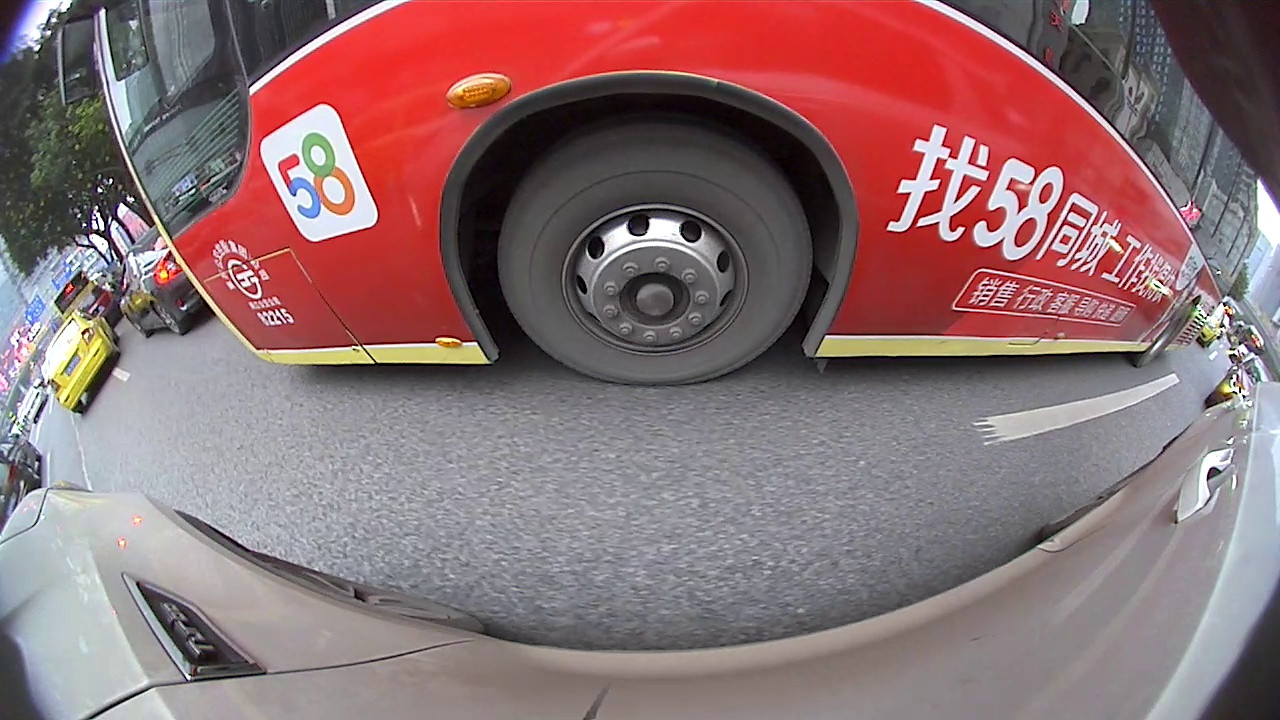bus: (316, 25, 536, 108)
car: (274, 51, 470, 176), (818, 115, 992, 215), (709, 79, 810, 121)
front: (873, 154, 904, 183), (284, 149, 310, 177)
rear: (377, 120, 412, 152), (960, 187, 986, 213)
